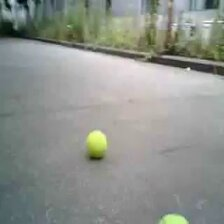tennis: (86, 130, 108, 156)
